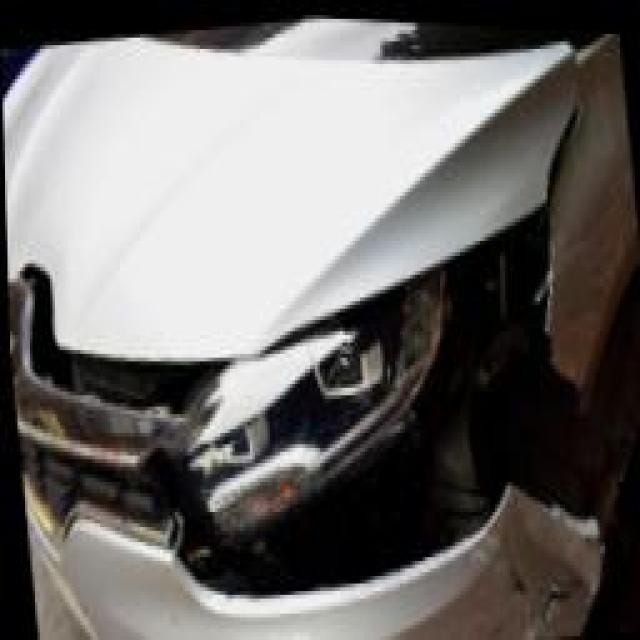Bumper: (60, 425, 620, 640)
Fender: (518, 64, 639, 386)
Light: (202, 275, 494, 449)
